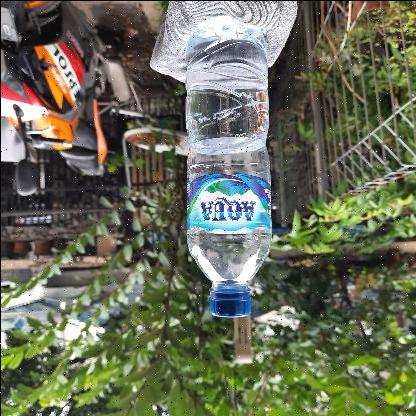Plastic Bottle: (183, 41, 271, 320)
